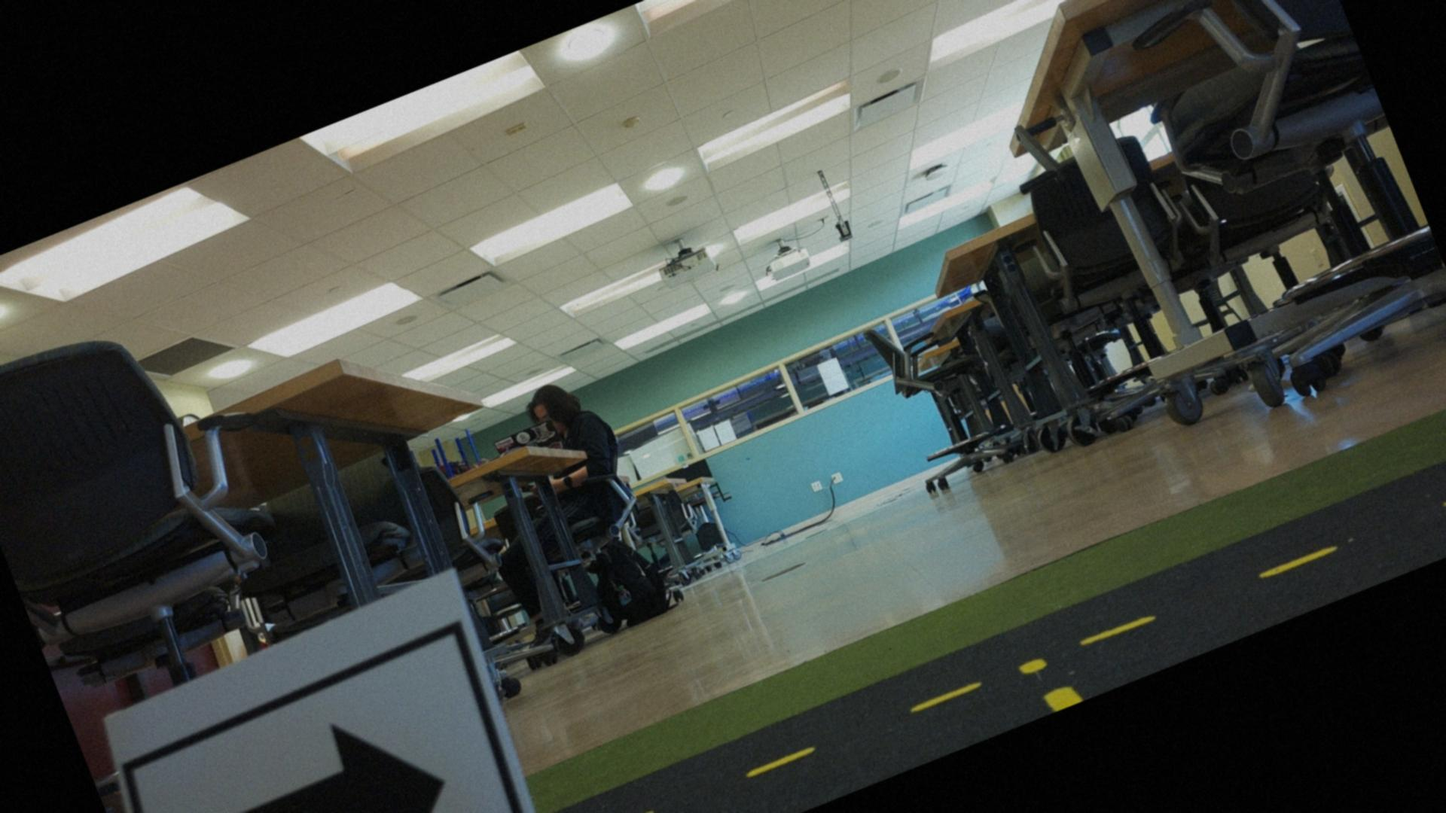turnright: (118, 633, 561, 812)
yellowline: (584, 458, 1445, 812), (1008, 642, 1088, 721)
